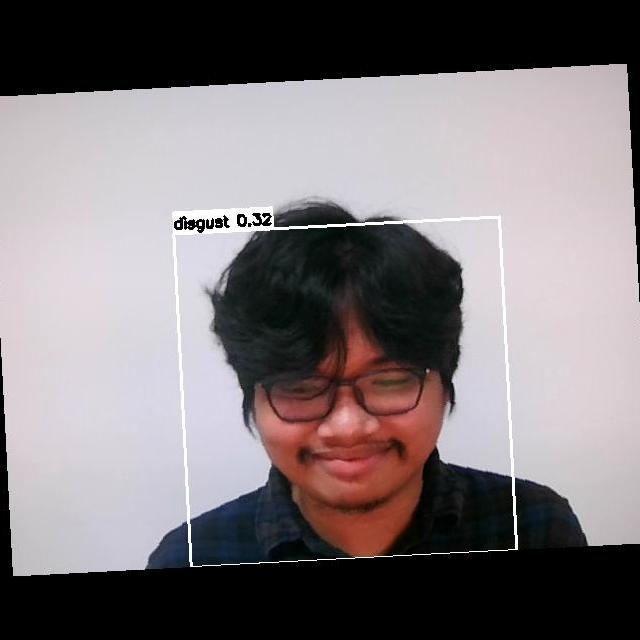Happy: (243, 335, 463, 509)
